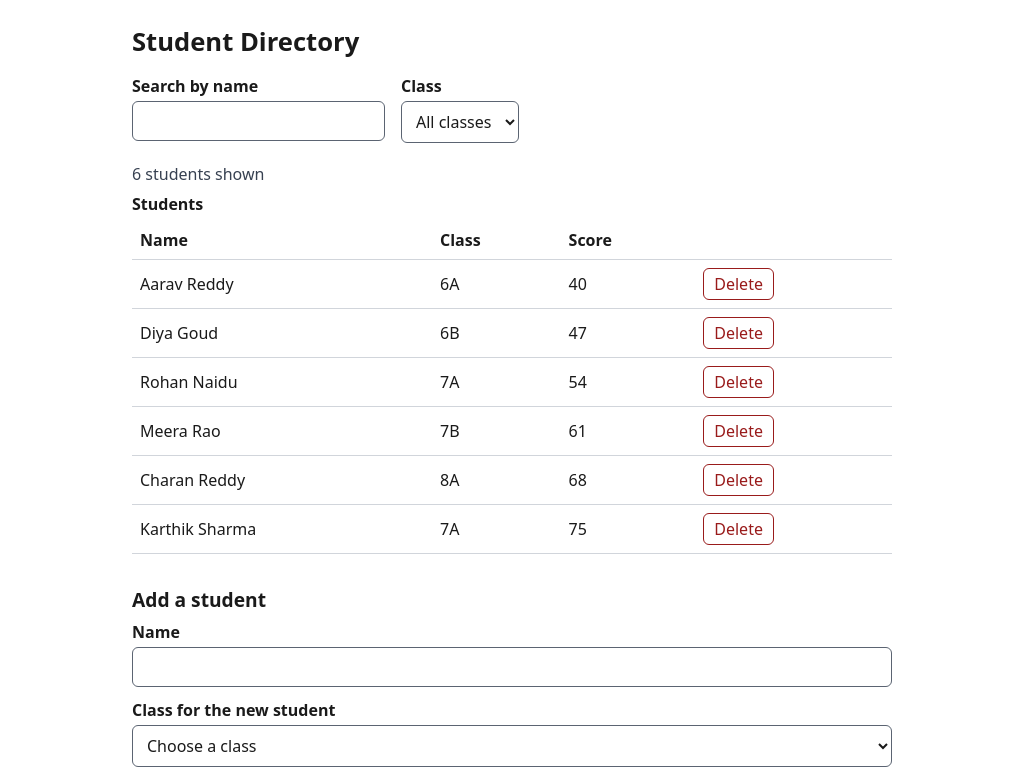
Test: adding a student › a duplicate shows the server's message and keeps what was typed
Expected: the table is shown, [132,193,892,554]
Type "aarav   reddy" into the field labelled "Name".
click(512, 667); type("aarav   reddy")  # box [132,647,892,687]
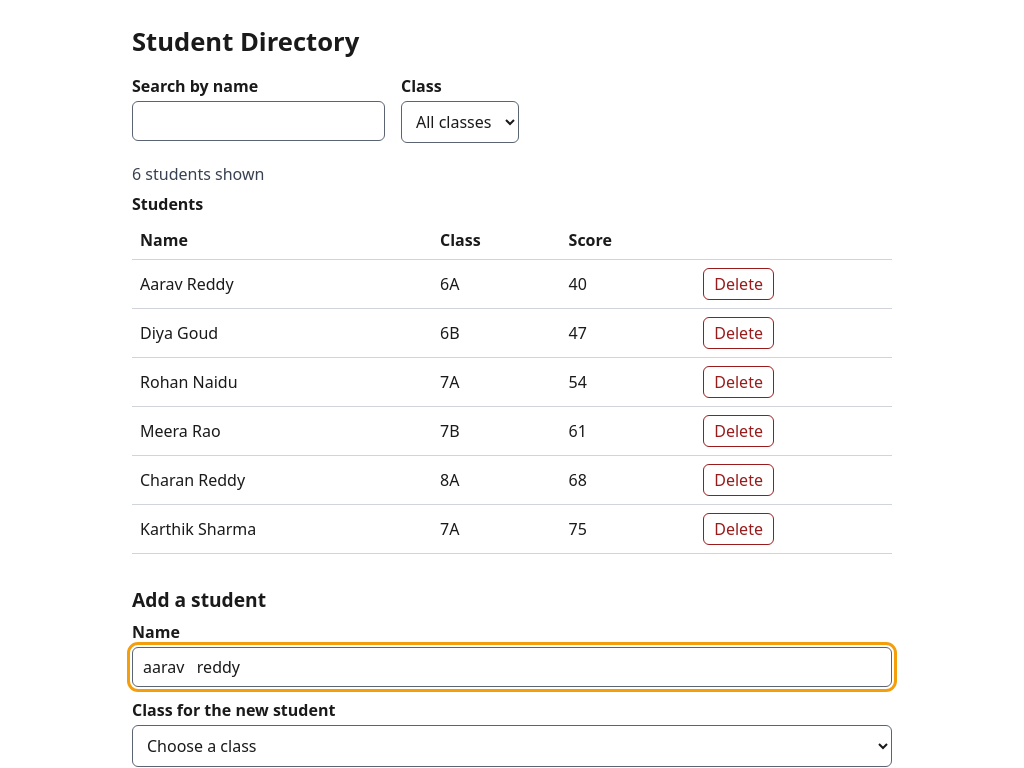
Select "6A" in the dropdown labelled "Class for the new student" at x=512, y=746, box [132,725,892,767]
(page scrolled)
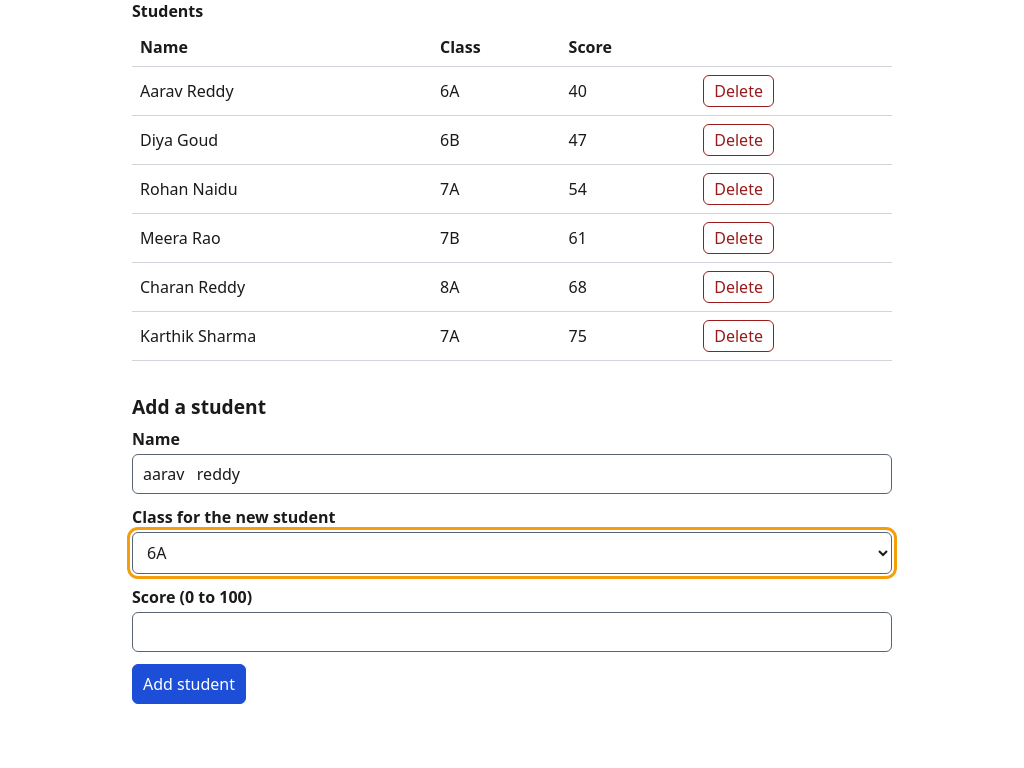
Type "50" into the field labelled "Score (0 to 100)".
click(512, 632); type("50")  # box [132,612,892,652]
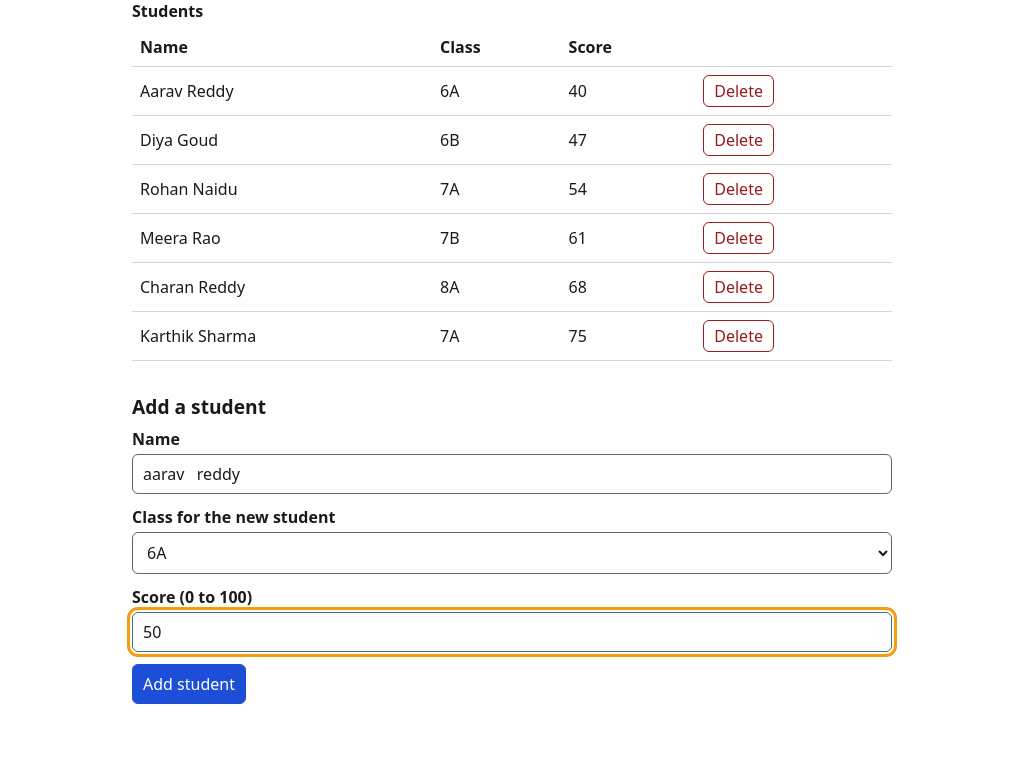
Click the button "Add student".
click(189, 684)  # box [132,664,246,704]
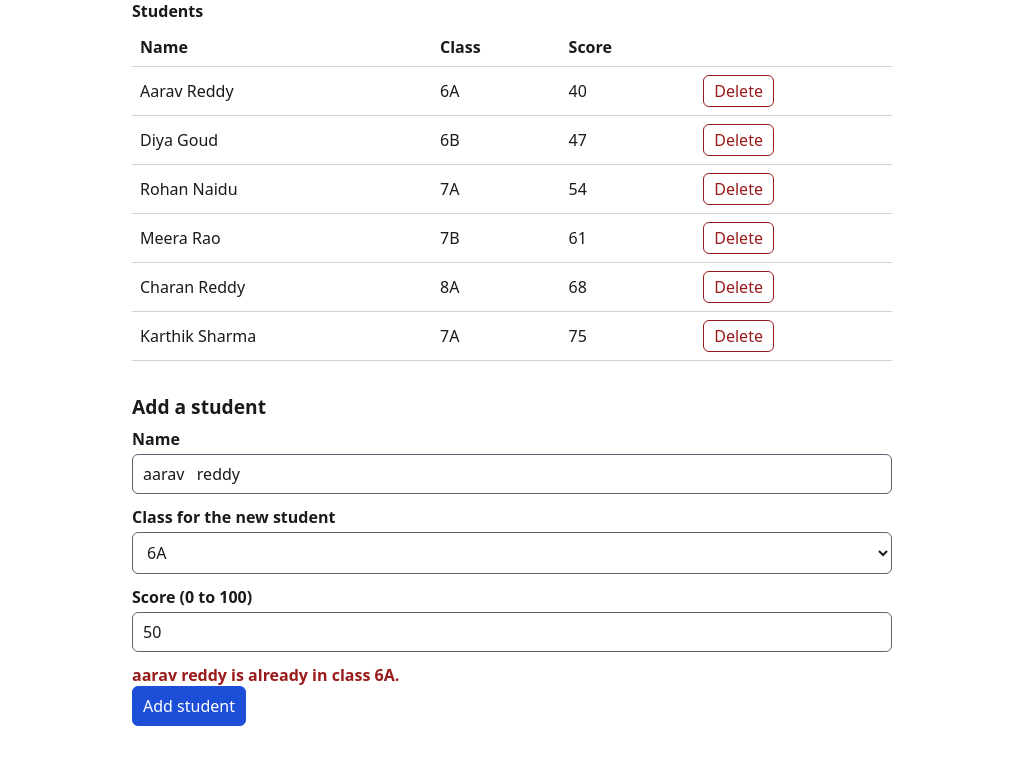
Expected: the button "Add student" is enabled, [132,686,246,726]
Result: the message reads "aarav reddy is already in class 6A." at [132,664,399,686]
